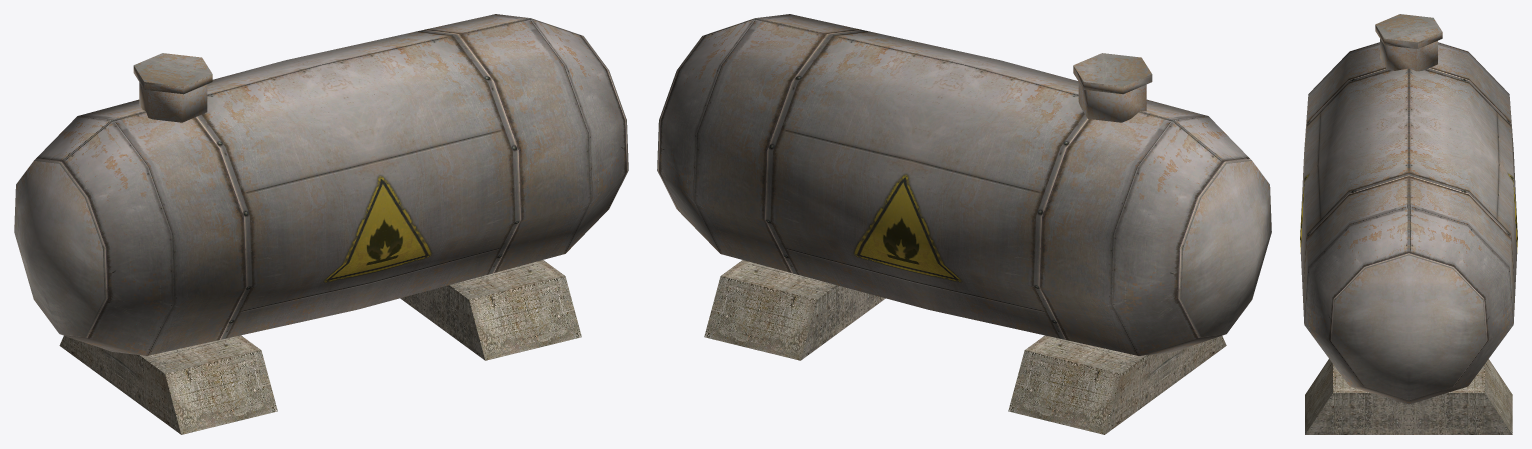
The model's file is Prop_Yg02_lod1.glb.
3 renders of one model, left to right at view 1: azimuth 30°, elevation 25°; view 2: azimuth 150°, elevation 25°; view 3: azimuth 270°, elevation 25°, orthographic. The views are drawn at different scales.
Visible parts, largest first — view 1: xiutz_yg_02_lod1; view 2: xiutz_yg_02_lod1; view 3: xiutz_yg_02_lod1.
Boxes of the visible parts, bbox=[...] form: xiutz_yg_02_lod1: bbox=[14, 14, 628, 434]; xiutz_yg_02_lod1: bbox=[657, 14, 1271, 434]; xiutz_yg_02_lod1: bbox=[1300, 14, 1517, 434].
Bounding box in the file's own units: 15.37 × 7.73 × 5.82.
Materials: 1 (1 with a texture image).
